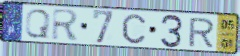3: (159, 13, 185, 49)
7: (92, 9, 115, 46)
C: (121, 13, 148, 45)
Q: (23, 8, 52, 40)
R: (50, 8, 81, 42), (188, 17, 216, 48)
